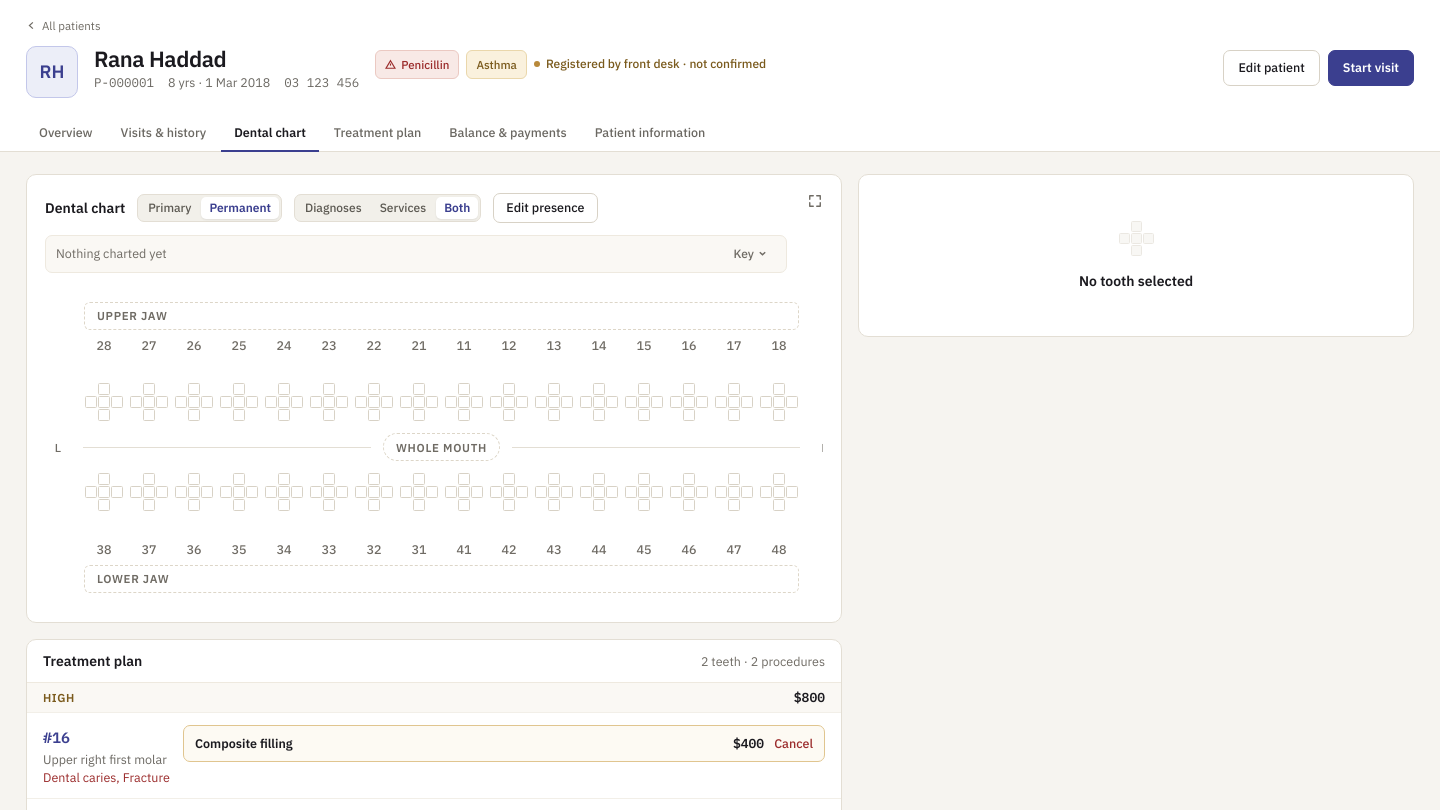
ChartTab › with chart:write offers what needs no visit: no Perform, Resolve or Add service
Expected: the button with aria-label "Cancel Composite filling" is shown, [774,737,813,750]
Click the button "#16". click: (56, 738)
box: [43,730,70,746]
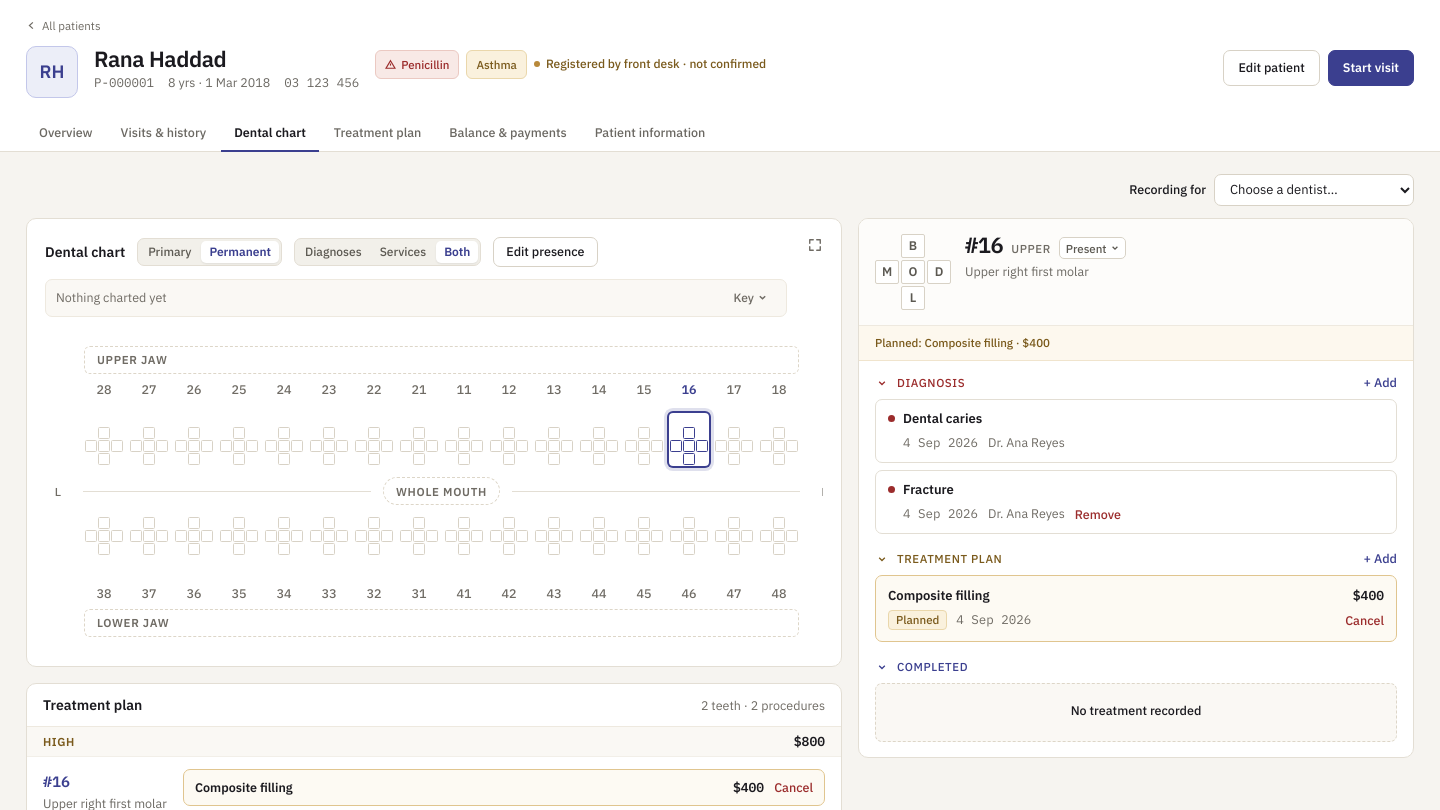
Result: the button with aria-label "Remove Fracture" is shown at [1075,508,1121,520]
Result: the button with aria-label "Add planned treatment" is shown at [1364,552,1397,565]
# A jaw is selected from the chart: its panel plans, and adds no service.
Click the button "Upper jaw". click: (132, 359)
box: [84,346,799,374]
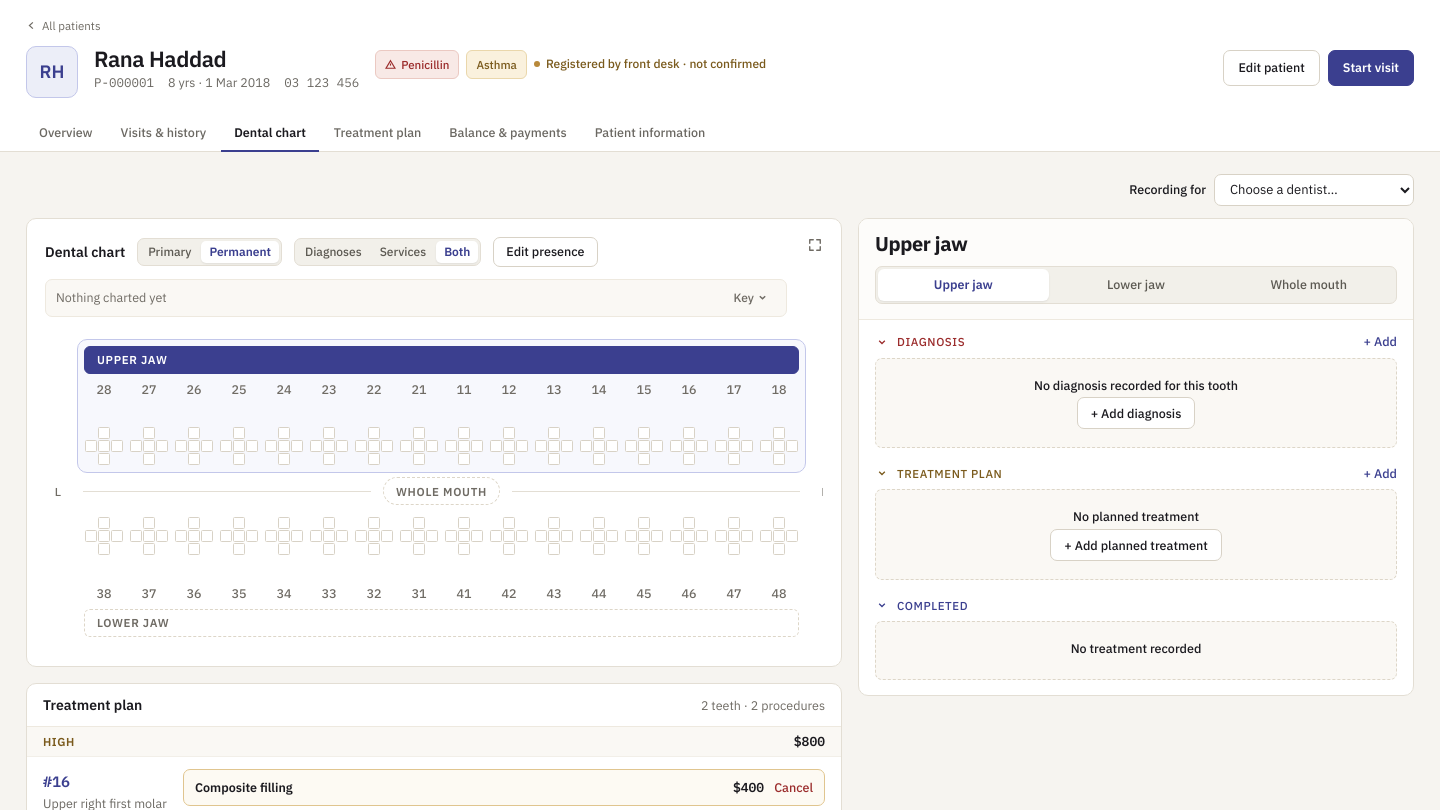
Result: the button with aria-label "Add planned treatment" is shown at [1364,467,1397,480]
Result: the heading "Upper jaw" is shown at [875,230,968,256]
